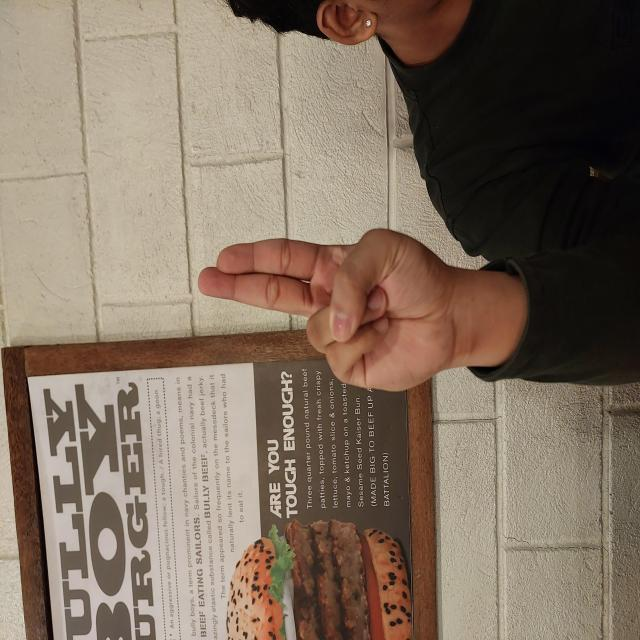U: (247, 197, 416, 458)
